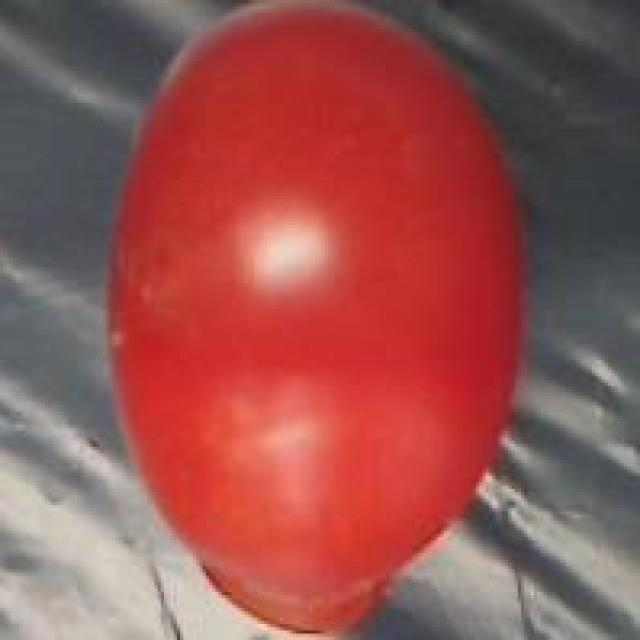ripe tomato: (84, 0, 537, 640)
